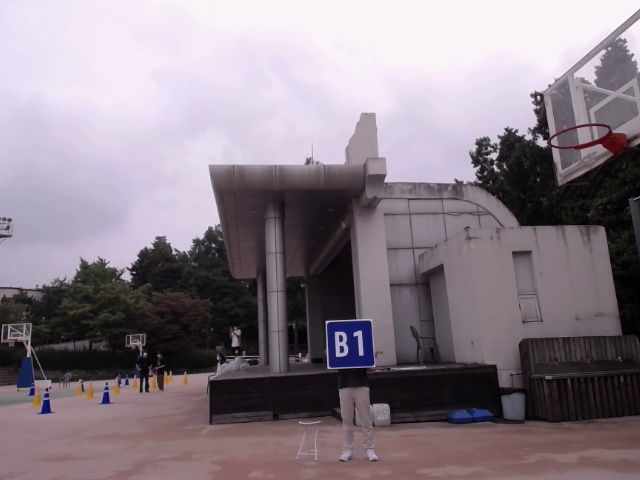delivery_b1: (326, 319, 376, 369)
